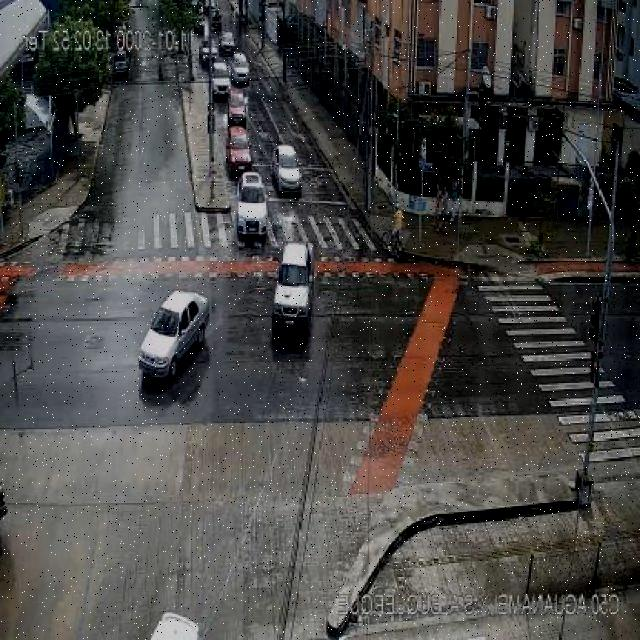Car: (134, 289, 214, 383), (260, 236, 325, 342), (232, 173, 269, 243), (268, 142, 306, 197), (228, 125, 251, 178), (208, 61, 236, 100), (223, 87, 250, 126), (111, 44, 135, 80), (234, 53, 252, 84), (200, 36, 218, 62), (220, 28, 239, 52)
Cycle: (376, 210, 413, 259)
